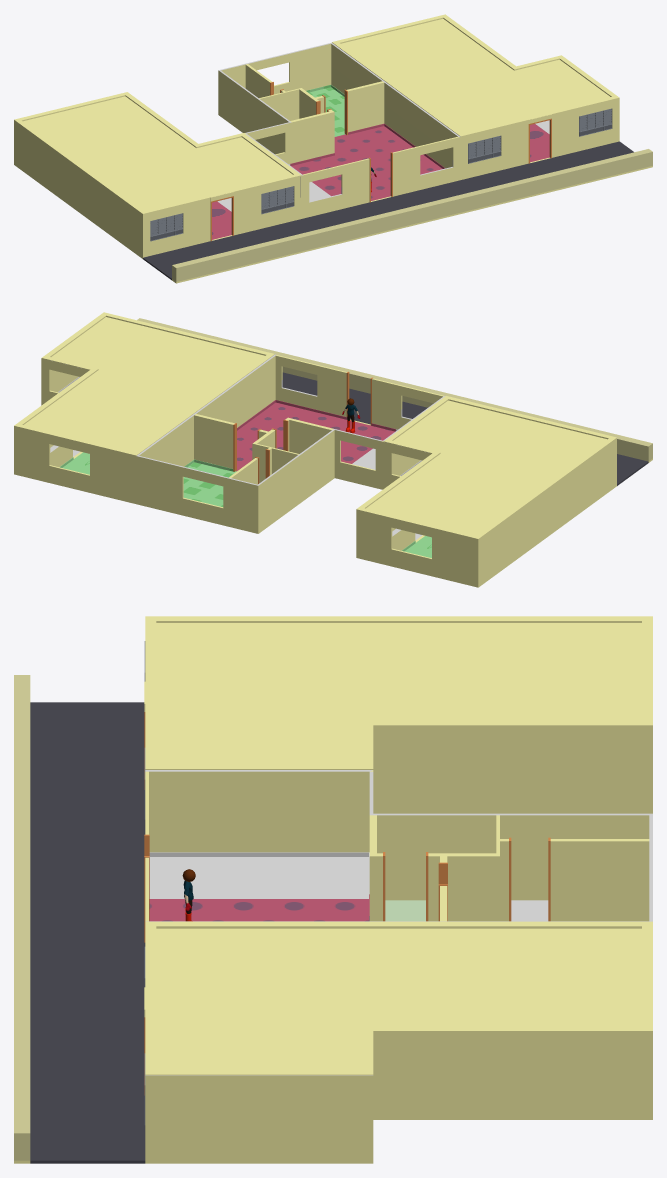
File: MP_Environ_Updated_HDB_Flats.fbx
The picture shows the model from 3 angles, top to bottom: view 1: azimuth 30°, elevation 25°; view 2: azimuth 150°, elevation 25°; view 3: azimuth 270°, elevation 25°; orthographic projection. The views are drawn at different scales.
Visible parts, largest first — view 1: Neighbour_Flats, Player_Flat, LivingRoom_Slice, BombShelter_Slice, Bathroom_Slice, Bedroom_Slice2, Bedroom_Slice; view 2: Neighbour_Flats, Player_Flat, LivingRoom_Slice, Bedroom_Slice2, Bathroom_Slice, BombShelter_Slice, Bedroom_Slice; view 3: Neighbour_Flats, Player_Flat, Bathroom_Slice, Bedroom_Slice, BombShelter_Slice.
Part boxes in pixels (x1=…): Neighbour_Flats: x1=14, y1=14, x2=652, y2=283; Player_Flat: x1=218, y1=42, x2=460, y2=218; LivingRoom_Slice: x1=303, y1=136, x2=458, y2=196; BombShelter_Slice: x1=290, y1=109, x2=334, y2=143; Bathroom_Slice: x1=245, y1=64, x2=286, y2=114; Bedroom_Slice2: x1=344, y1=81, x2=384, y2=113; Bedroom_Slice: x1=286, y1=88, x2=325, y2=116; Neighbour_Flats: x1=14, y1=312, x2=652, y2=587; Player_Flat: x1=136, y1=354, x2=445, y2=533; LivingRoom_Slice: x1=275, y1=355, x2=443, y2=409; Bedroom_Slice2: x1=194, y1=414, x2=236, y2=448; Bathroom_Slice: x1=229, y1=447, x2=298, y2=483; BombShelter_Slice: x1=283, y1=417, x2=333, y2=447; Bedroom_Slice: x1=252, y1=428, x2=276, y2=469; Neighbour_Flats: x1=14, y1=616, x2=652, y2=1163; Player_Flat: x1=144, y1=770, x2=652, y2=942; Bathroom_Slice: x1=496, y1=815, x2=649, y2=884; Bedroom_Slice: x1=426, y1=841, x2=499, y2=899; BombShelter_Slice: x1=369, y1=815, x2=385, y2=898.
Size of the model in its own units: 2229 by 202 by 1314.
18 materials, 2 textured.
